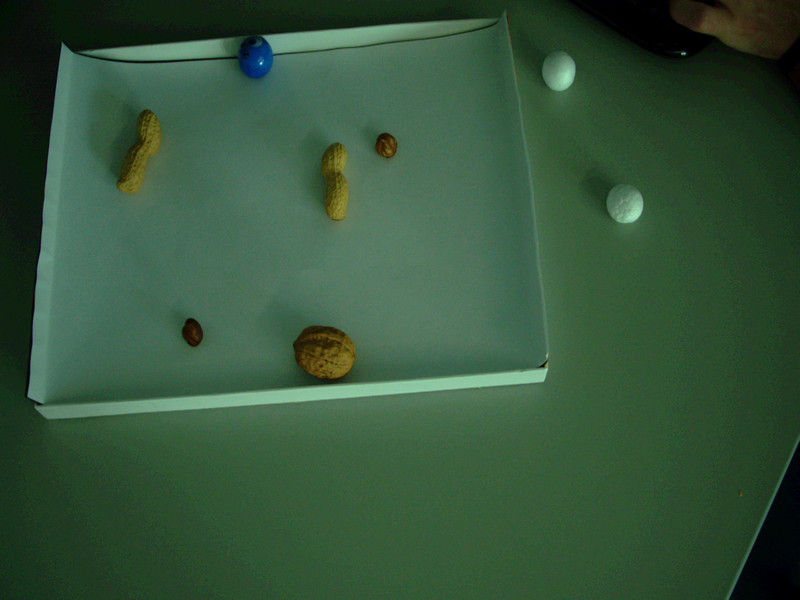walnut: (287, 318, 367, 393)
